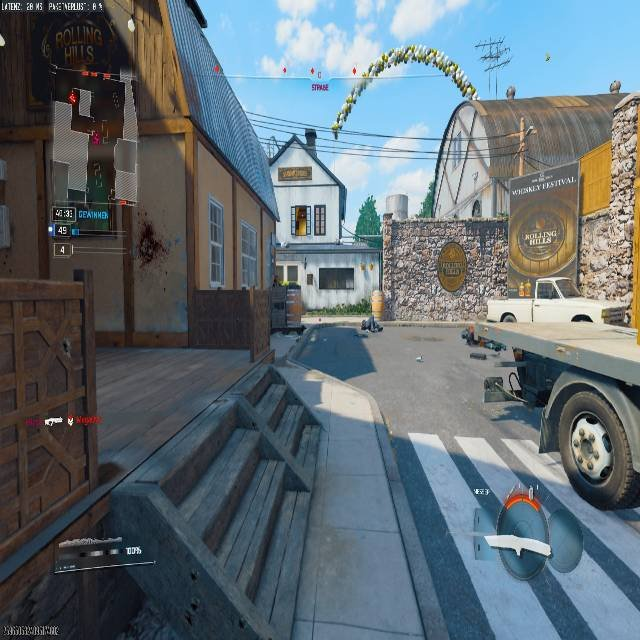player: (136, 221, 162, 266)
